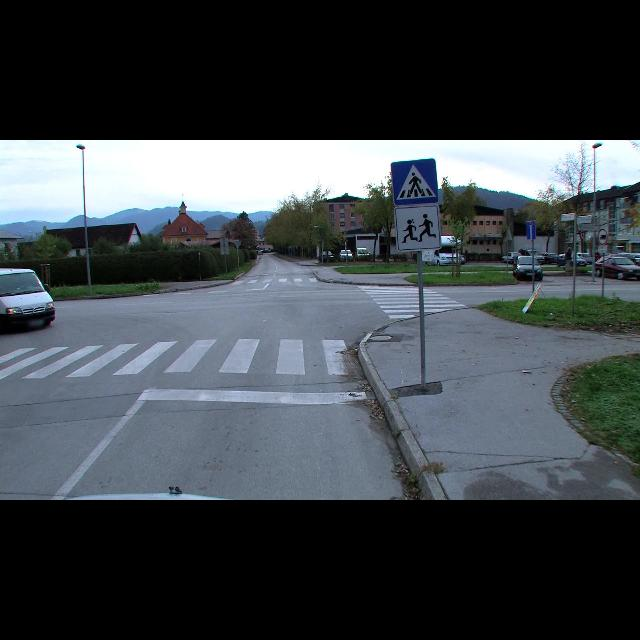Squared: (390, 158, 440, 206), (394, 206, 442, 252)
